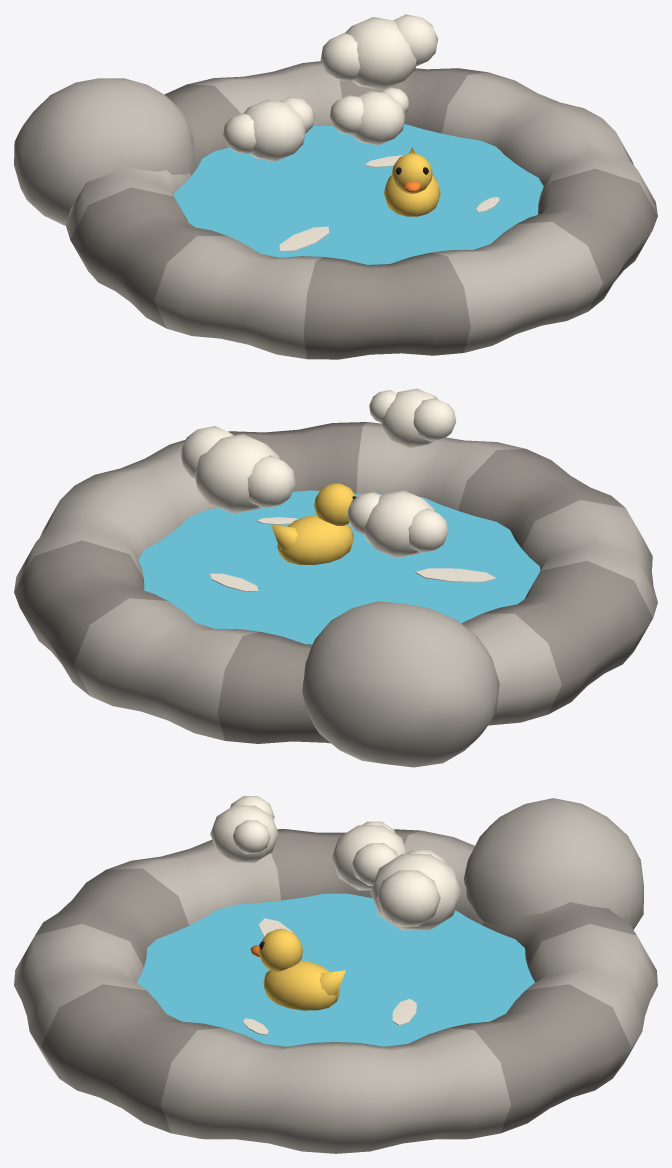
Rendered from prop_hot_spring.glb.
3 renders of one model, top to bottom at view 1: azimuth 30°, elevation 25°; view 2: azimuth 150°, elevation 25°; view 3: azimuth 270°, elevation 25°, orthographic. The views are drawn at different scales.
Parts seen in each view (by area): view 1: prop_hot_spring, steam; view 2: prop_hot_spring, steam; view 3: prop_hot_spring, steam.
Boxes of the visible parts, x1,y1,x2,y2 form: prop_hot_spring: (14, 61, 657, 359); steam: (223, 14, 437, 161); prop_hot_spring: (14, 422, 657, 767); steam: (180, 388, 456, 558); prop_hot_spring: (14, 798, 657, 1153); steam: (210, 796, 461, 930).
Size of the model in its own units: 2.8 by 1.05 by 2.82.
